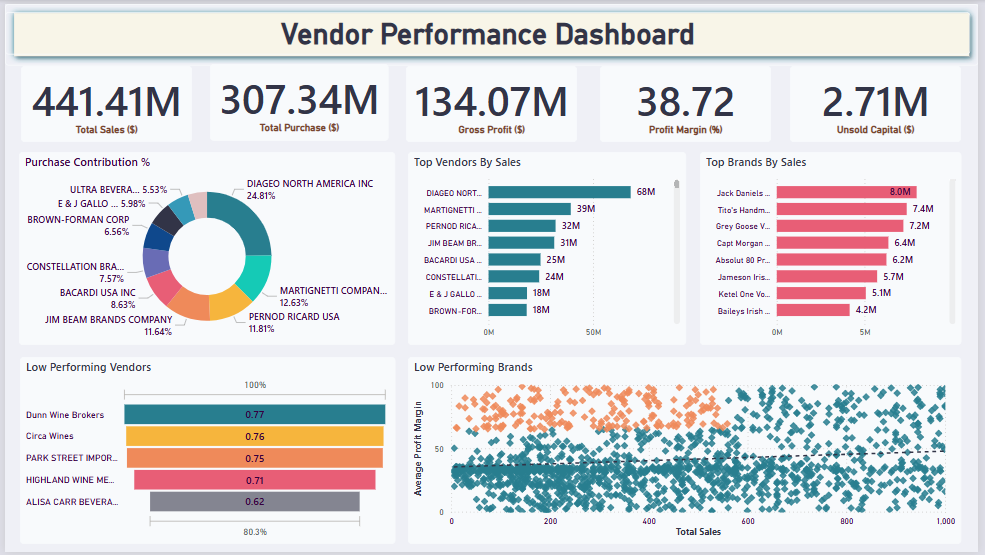

This screenshot's page, from the dashboard's own definition file:
{"tool":"powerbi","page":{"name":"Page 1","canvas":[1280,720],"ordinal":0},"visuals":[{"type":"shape","box":[0,0,1280.6,80.6],"z":0},{"type":"textbox","box":[0,10.2,1270.5,55.7],"z":1000},{"type":"card","fields":{"Values":["Sum(vendor_sales_summary.total_sales_dollars)"]},"box":[21.5,81,225.3,100],"z":2000},{"type":"donutChart","title":"Purchase Contribution %","fields":{"Y":["Sum(Purchase_Contribution.purchase_contribution%)"],"Category":["Purchase_Contribution.vendorname"]},"box":[19,194.9,494.9,254.4],"z":3000},{"type":"card","fields":{"Values":["Sum(vendor_sales_summary.gross_profit)"]},"box":[527.8,81,225.3,100],"z":4000},{"type":"barChart","title":"Top Vendors By Sales","fields":{"Category":["vendor_sales_summary.vendorname"],"Y":["Sum(vendor_sales_summary.total_sales_dollars)"]},"box":[530.4,194.9,365.8,254.4],"z":5000},{"type":"card","fields":{"Values":["Avg(vendor_sales_summary.profit_margin)"]},"box":[783.5,81,225.3,100],"z":6000},{"type":"barChart","title":"Top Brands By Sales","fields":{"Category":["vendor_sales_summary.description"],"Y":["Sum(vendor_sales_summary.total_sales_dollars)"]},"box":[913.9,194.9,344.3,254.4],"z":7000},{"type":"card","fields":{"Values":["Sum(vendor_sales_summary.total_purchased_dollars)"]},"box":[269.3,79.5,235.2,101.1],"z":8000},{"type":"funnel","title":"Low Performing Vendors","fields":{"Category":["Low_turn_over_vendor.vendorname"],"Y":["Sum(Low_turn_over_vendor.Avg_stock_turn_Over)"]},"box":[20.3,464.6,493.7,245.6],"z":9000},{"type":"card","fields":{"Values":["Sum(vendor_sales_summary.unsold_capital)"]},"box":[1032.9,81,225.3,100],"z":10000},{"type":"scatterChart","title":"Low Performing Brands","fields":{"Category":["brand_performance.description"],"X":["Sum(brand_performance.Total_sales)"],"Y":["Sum(brand_performance.Average_Profit_margin)"],"Series":["brand_performance.Target_brand"]},"box":[530.4,464.6,727.8,245.6],"z":11000}]}

Visuals, with their boxes in screenshot pixels (x1, y1, x2, y2), scaled from the page's 1280x720 canvas onto the 985x555 screenshot:
shape: bbox=(0, 0, 984, 62)
textbox: bbox=(0, 8, 978, 51)
card - Sum(vendor_sales_summary.total_sales_dollars): bbox=(17, 62, 190, 140)
"Purchase Contribution %" donutChart: bbox=(15, 150, 395, 346)
card - Sum(vendor_sales_summary.gross_profit): bbox=(406, 62, 580, 140)
"Top Vendors By Sales" barChart: bbox=(408, 150, 690, 346)
card - Avg(vendor_sales_summary.profit_margin): bbox=(603, 62, 776, 140)
"Top Brands By Sales" barChart: bbox=(703, 150, 968, 346)
card - Sum(vendor_sales_summary.total_purchased_dollars): bbox=(207, 61, 388, 139)
"Low Performing Vendors" funnel: bbox=(16, 358, 396, 547)
card - Sum(vendor_sales_summary.unsold_capital): bbox=(795, 62, 968, 140)
"Low Performing Brands" scatterChart: bbox=(408, 358, 968, 547)
